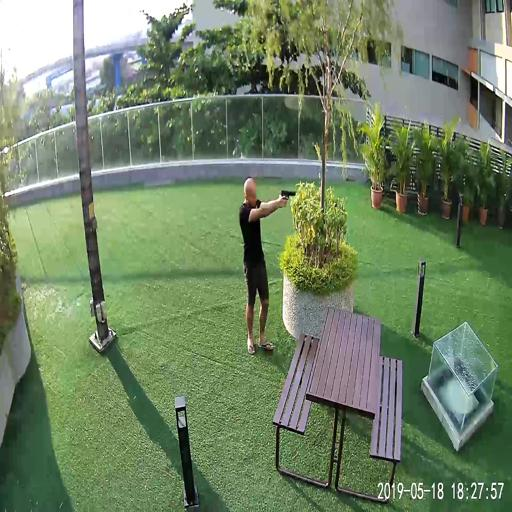pistol: (279, 189, 296, 209)
